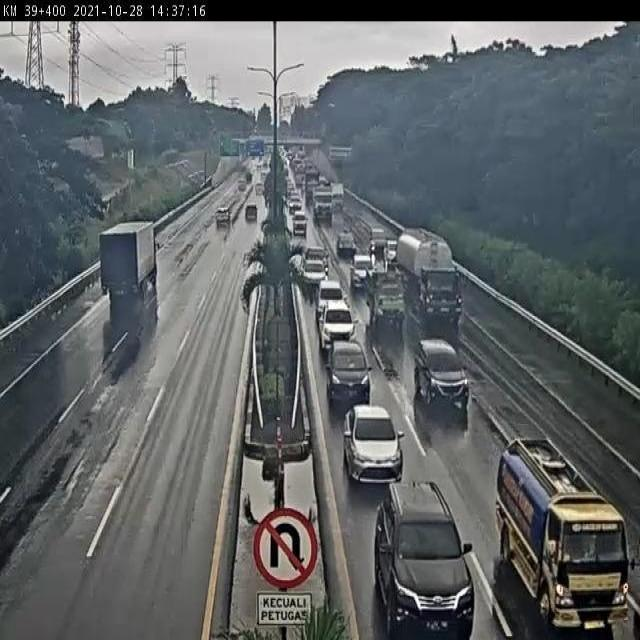Car: (373, 480, 475, 640), (342, 403, 405, 483), (414, 337, 470, 413), (324, 340, 374, 409), (316, 298, 359, 352), (316, 280, 347, 314), (350, 253, 376, 289), (298, 259, 329, 287), (337, 229, 357, 258), (368, 228, 388, 255), (382, 236, 399, 265), (292, 211, 308, 236), (304, 246, 328, 262), (287, 195, 303, 215), (215, 207, 231, 226), (245, 205, 258, 220), (238, 180, 248, 191)
Truck: (493, 434, 640, 640), (395, 226, 467, 328), (100, 220, 161, 300), (365, 268, 406, 330), (311, 184, 333, 226), (304, 168, 321, 206), (329, 180, 346, 213)
